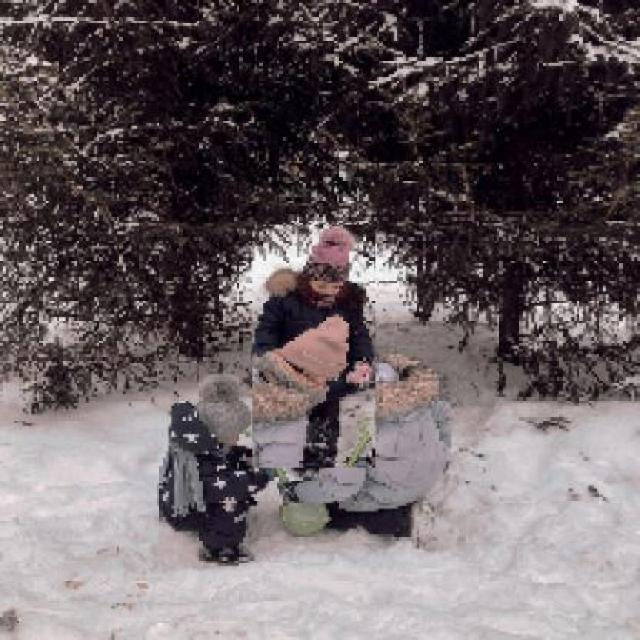child: (251, 225, 375, 469), (154, 373, 283, 567)
